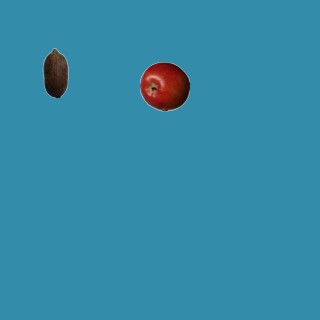Apple Braeburn: (139, 61, 189, 111)
Nut Pecan: (30, 47, 80, 97)
